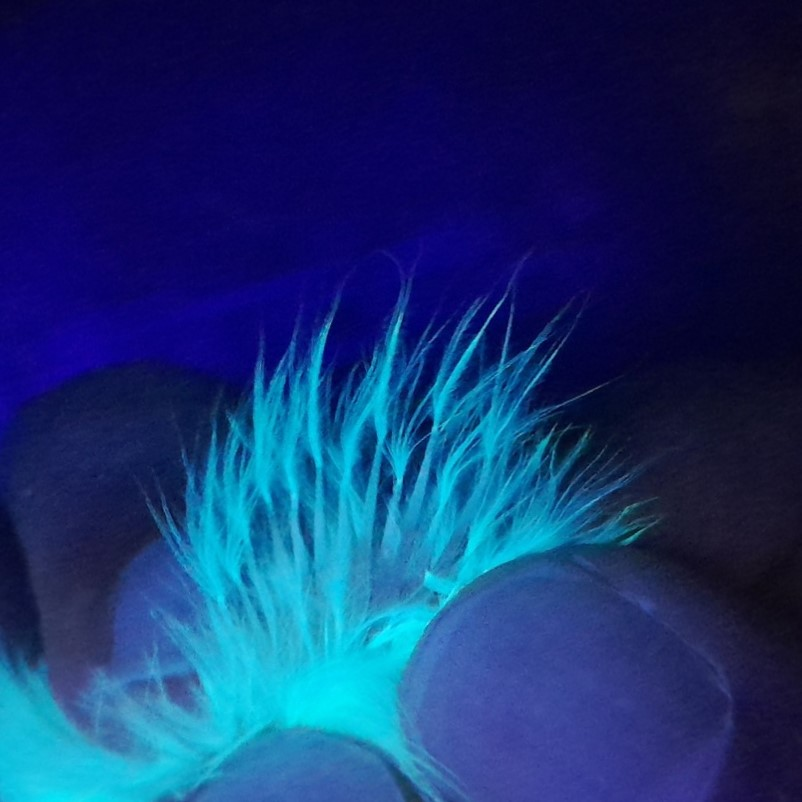male: (233, 406, 531, 724)
